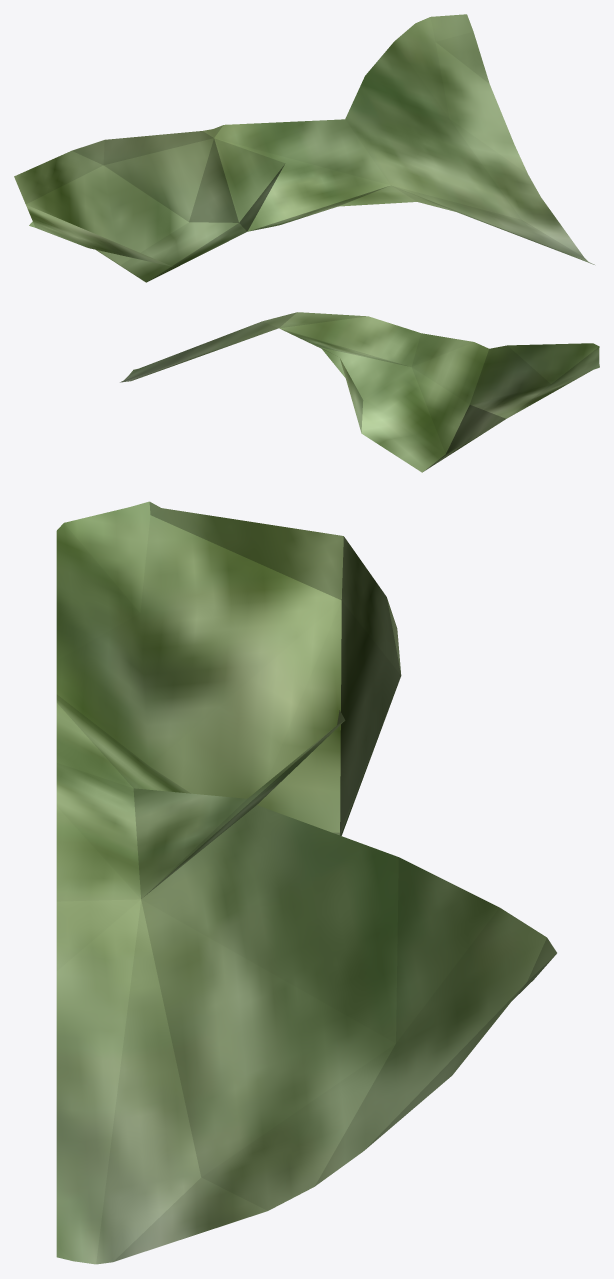
The picture shows the model from 3 angles, top to bottom: view 1: azimuth 30°, elevation 25°; view 2: azimuth 150°, elevation 25°; view 3: azimuth 270°, elevation 25°; orthographic projection. The views are drawn at different scales.
Bounding box in the file's own units: 0.9187 × 0.2553 × 0.4067.
1 material, 1 textured.
